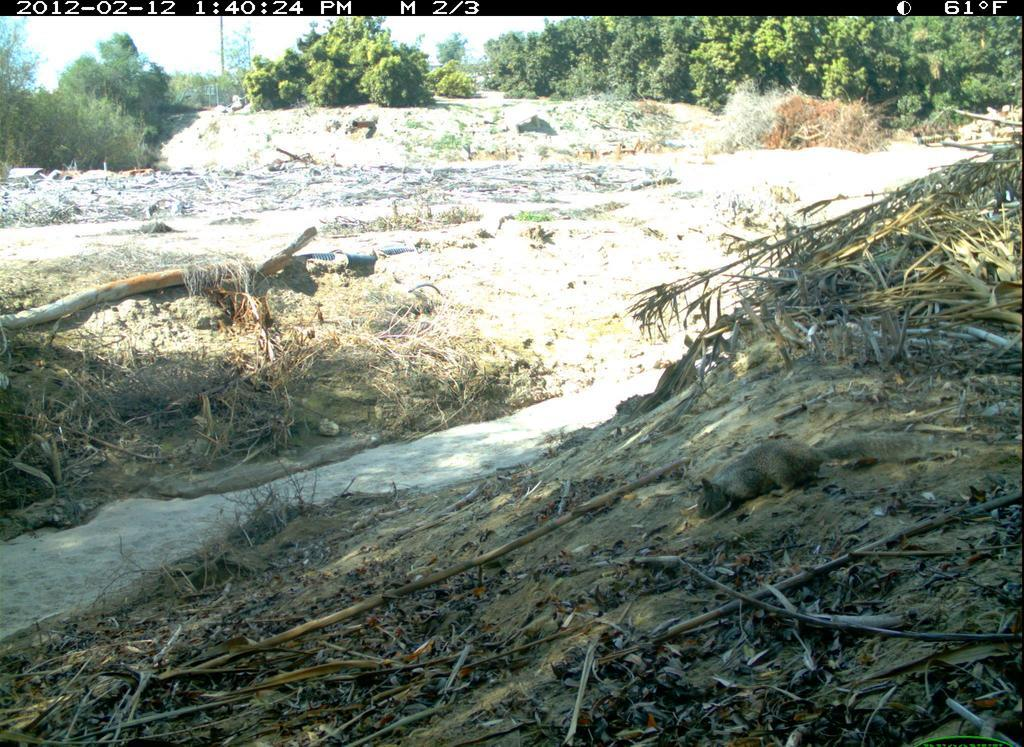squirrel: (687, 427, 932, 529)
